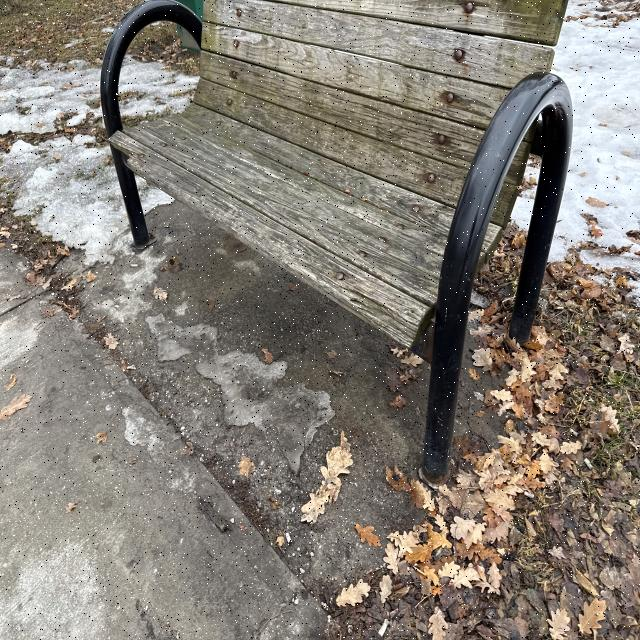Bench: (323, 0, 580, 473), (92, 8, 441, 240)
